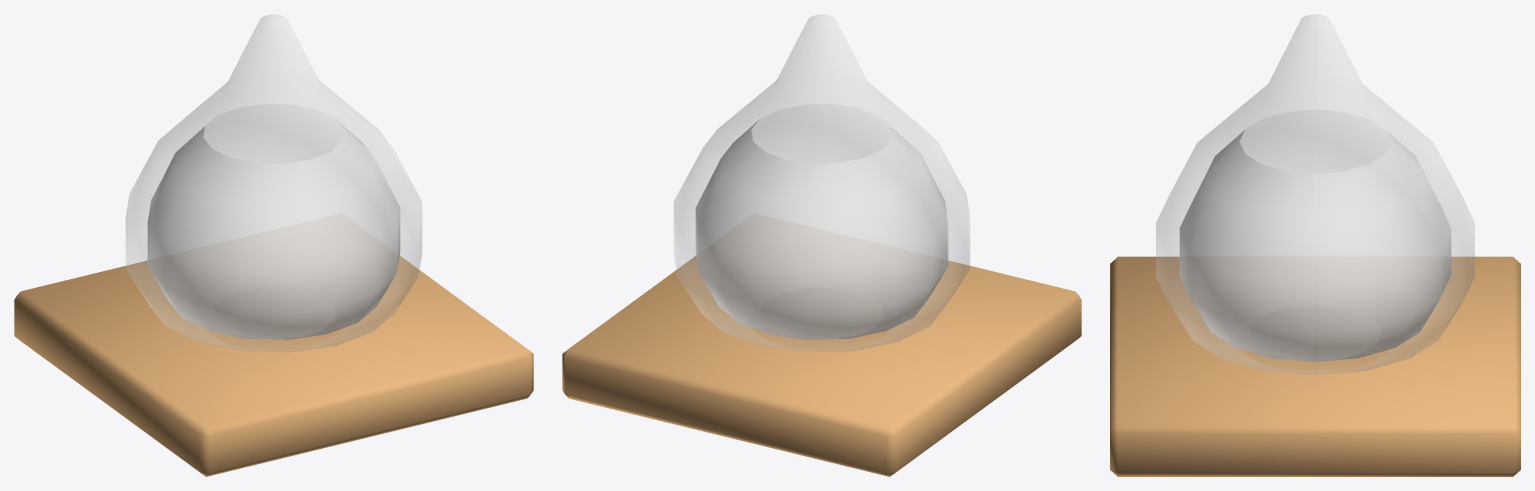
File: storm-glass.glb
The picture shows the model from 3 angles, left to right: view 1: azimuth 30°, elevation 25°; view 2: azimuth 150°, elevation 25°; view 3: azimuth 270°, elevation 25°; orthographic projection. The views are drawn at different scales.
Parts seen in each view (by area): view 1: Glass, Base, Liquid; view 2: Glass, Base, Liquid; view 3: Glass, Base, Liquid.
Part boxes in pixels (x1,y1,x2,y2): Glass: (126, 14, 421, 351); Base: (14, 255, 533, 476); Liquid: (147, 104, 400, 339); Glass: (674, 14, 969, 351); Base: (562, 255, 1081, 476); Liquid: (695, 104, 948, 339); Glass: (1156, 14, 1474, 374); Base: (1110, 256, 1520, 476); Liquid: (1179, 109, 1451, 361).
Bounding box in the file's own units: 0.105 × 0.107 × 0.105.
